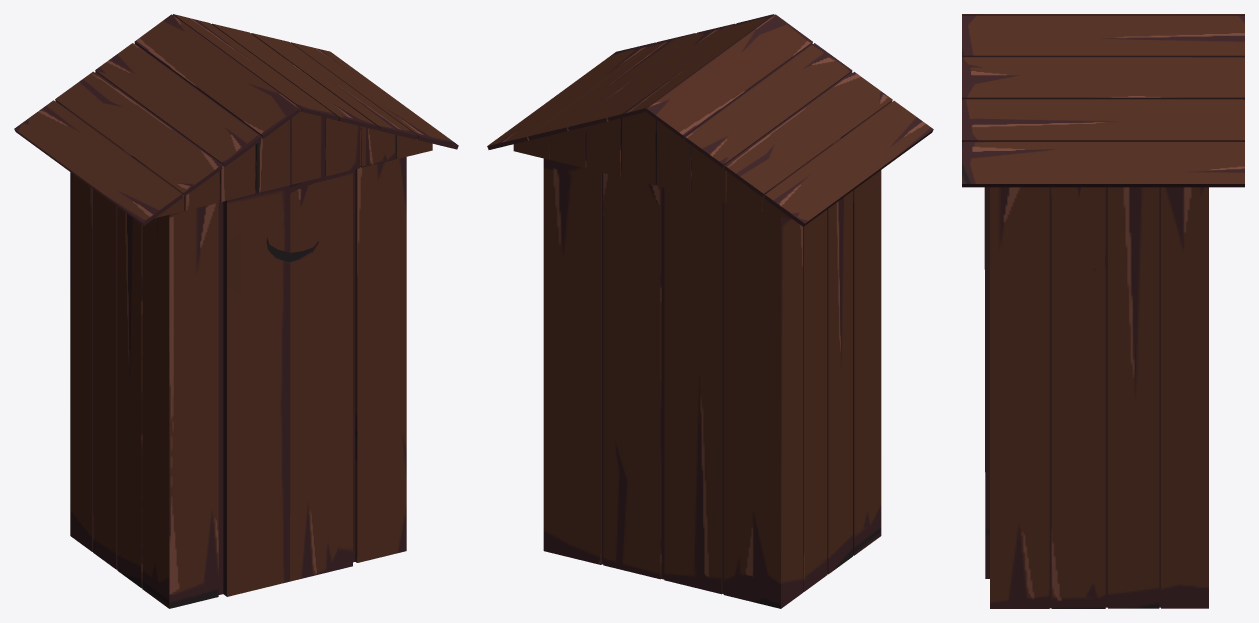
The model's file is banheiroexterno.fbx.
The picture shows the model from 3 angles, left to right: view 1: azimuth 30°, elevation 25°; view 2: azimuth 150°, elevation 25°; view 3: azimuth 270°, elevation 25°; orthographic projection. The views are drawn at different scales.
Visible parts, largest first — view 1: Plane; view 2: Plane; view 3: Plane.
Boxes of the visible parts, x1,y1,x2,y2 form: Plane: (14,14,458,608); Plane: (487,14,933,608); Plane: (962,14,1244,608).
Bounding box in the file's own units: 337 × 490 × 237.
Materials: 1 (1 with a texture image).
